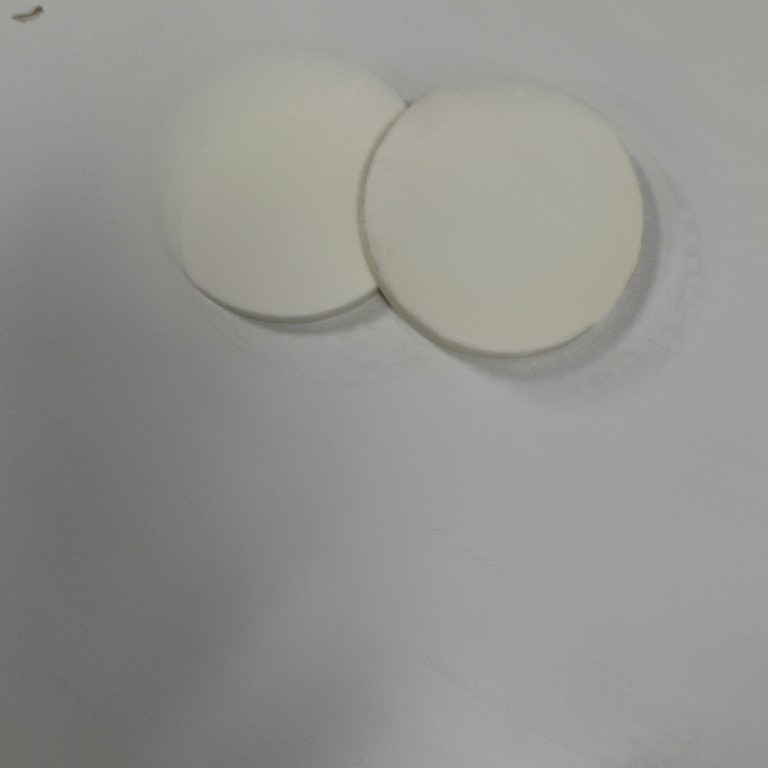ceramics: (141, 40, 654, 362)
